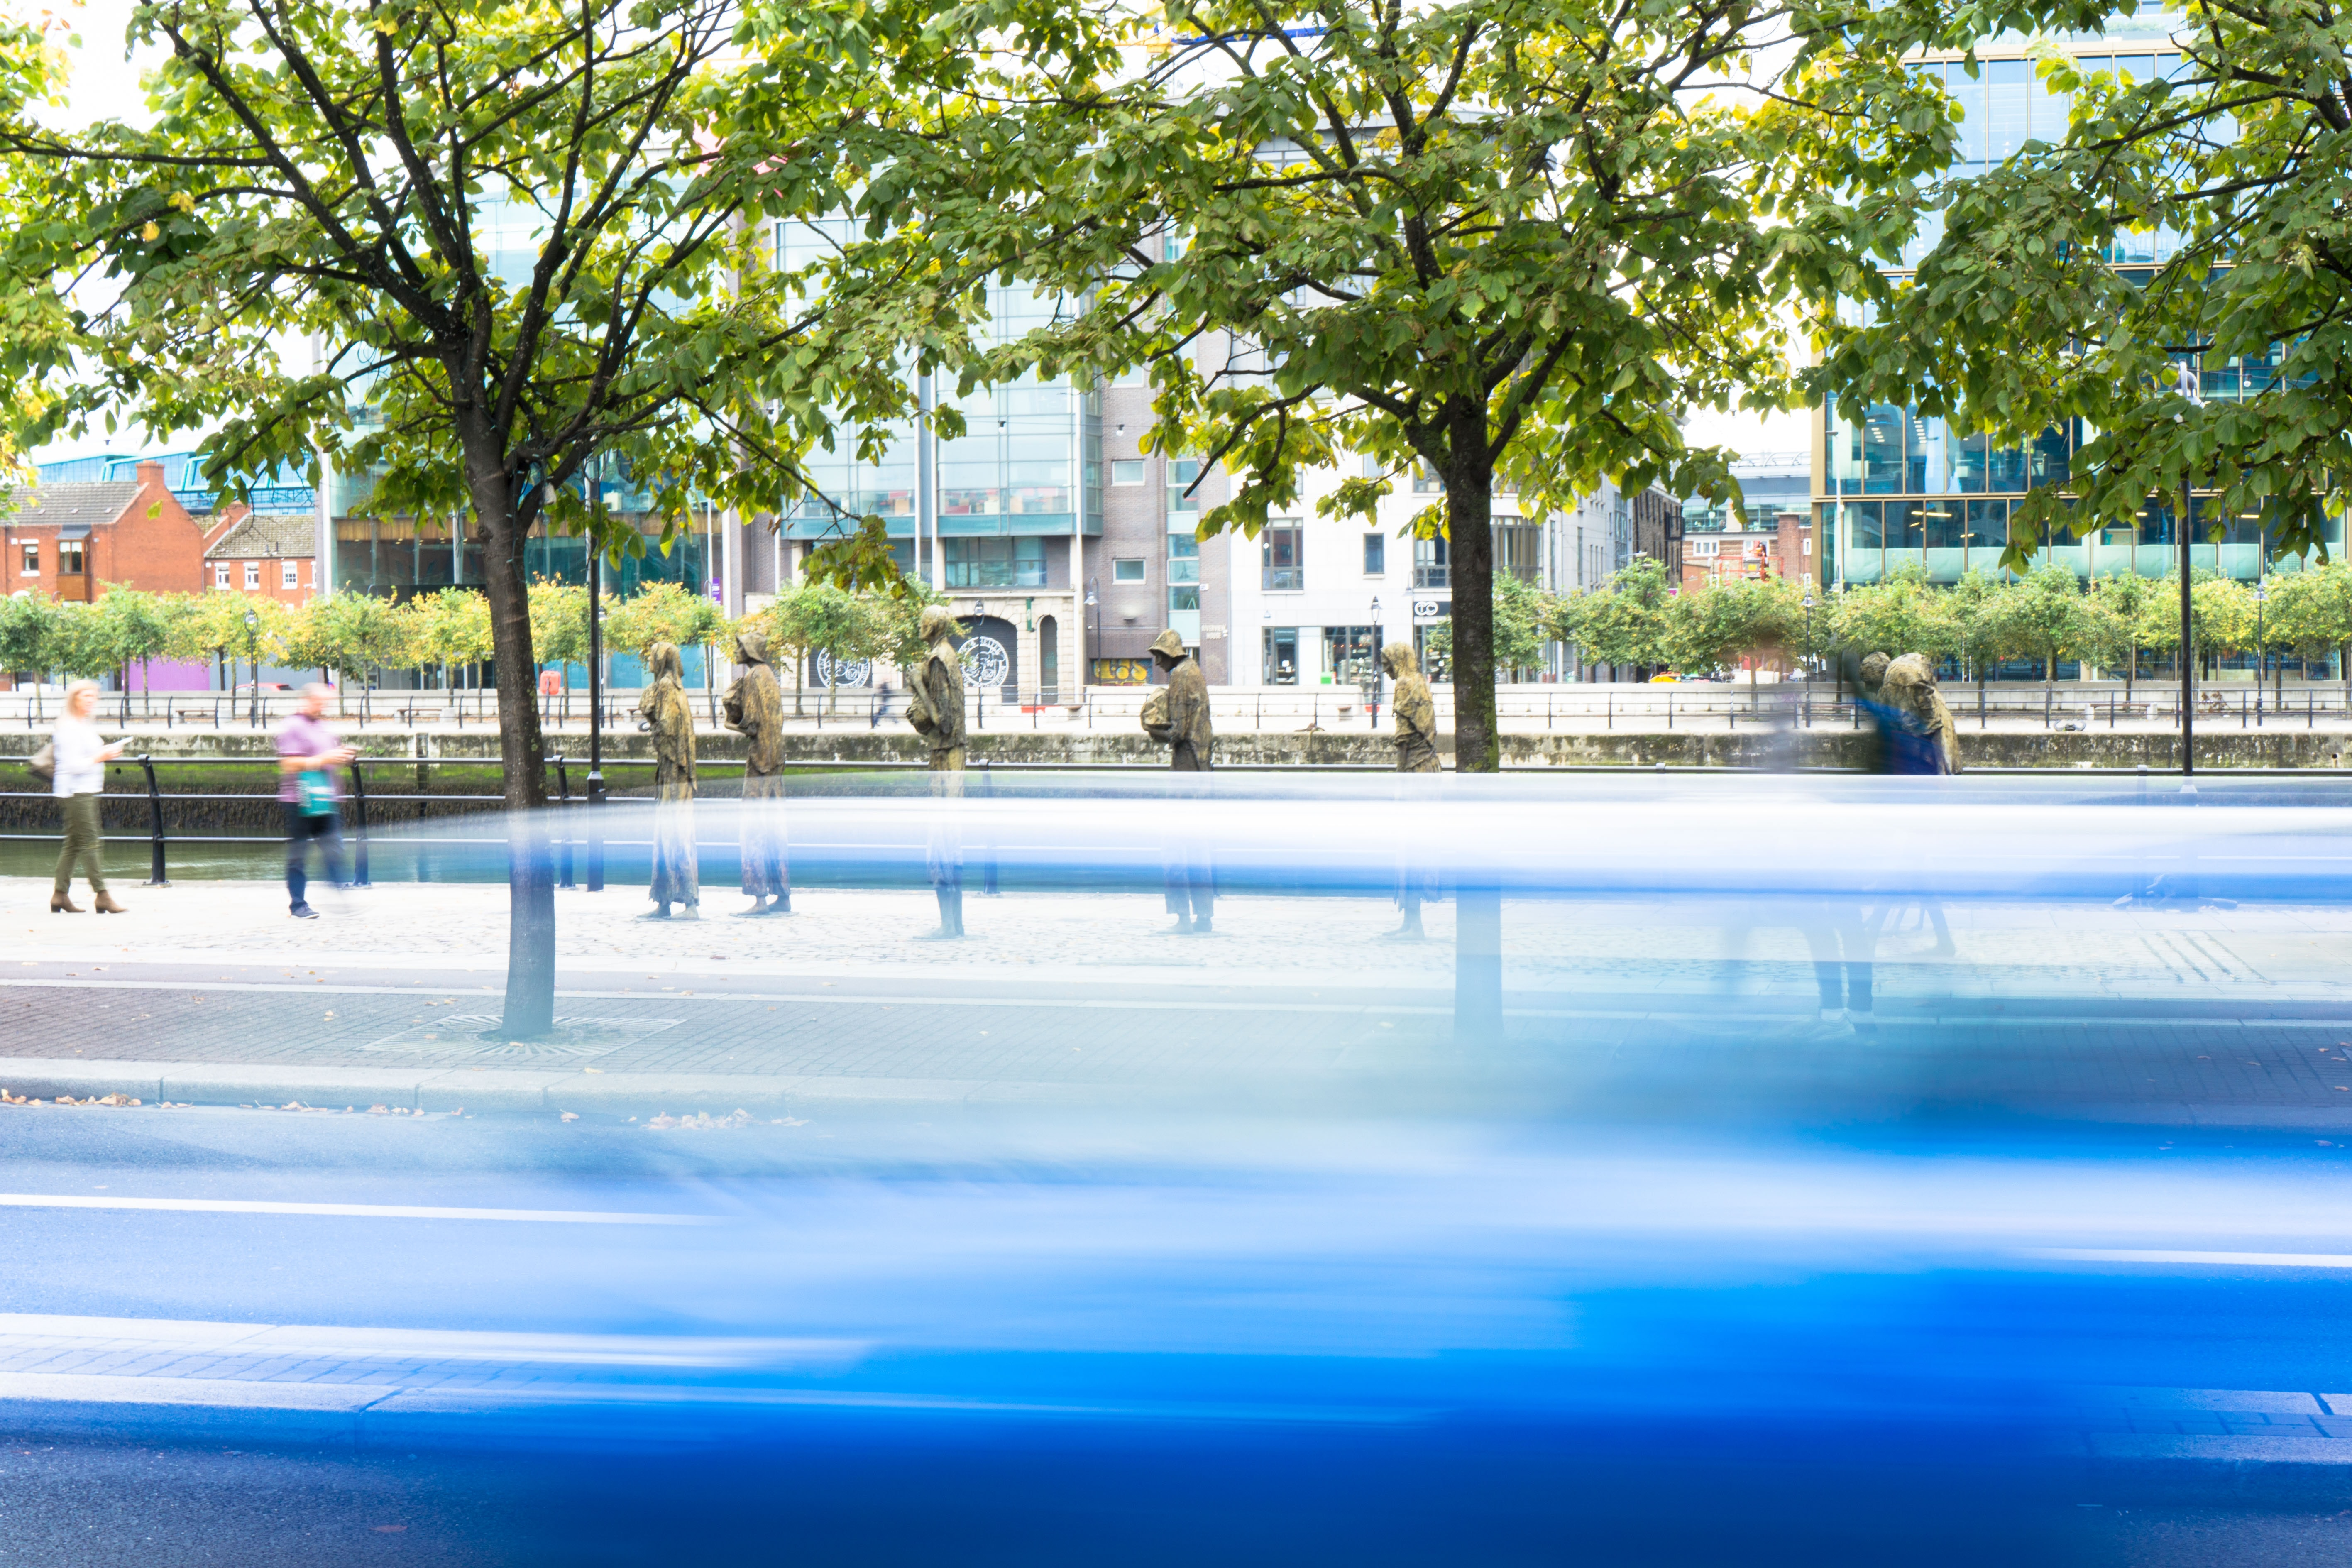tree: (0, 0, 964, 810), (954, 0, 1963, 773)
